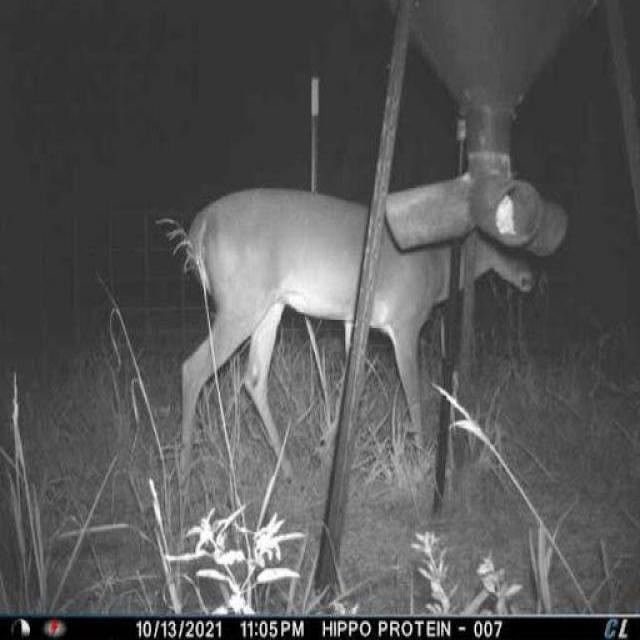deer: (173, 178, 542, 501)
